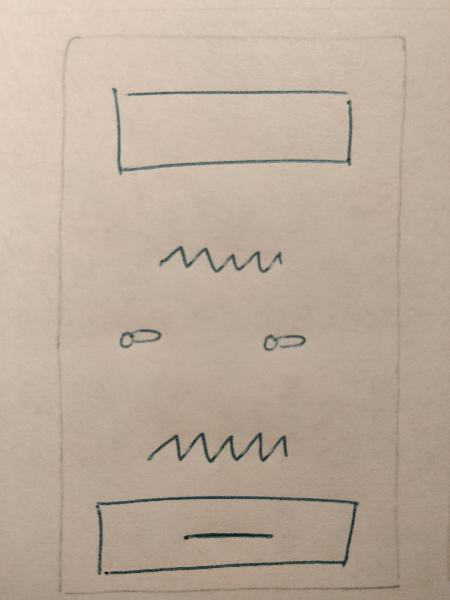button: (82, 490, 368, 576)
switch: (103, 314, 177, 359), (249, 318, 330, 359)
text: (130, 419, 306, 468), (145, 233, 294, 279)
text_input: (99, 76, 377, 181)
